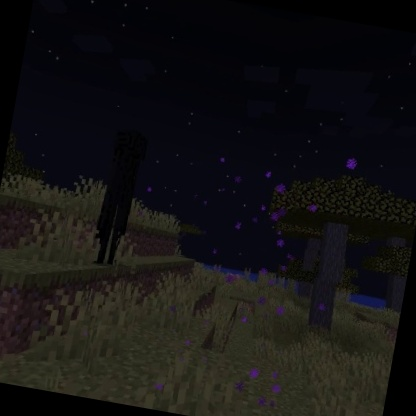enderman: (87, 124, 152, 270)
